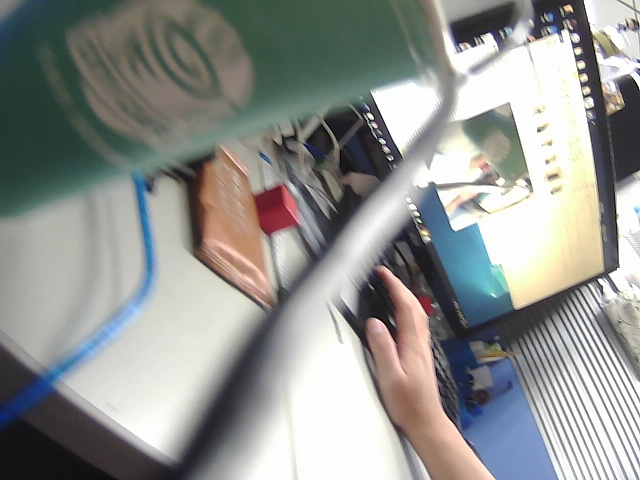beverage: (1, 1, 525, 220)
